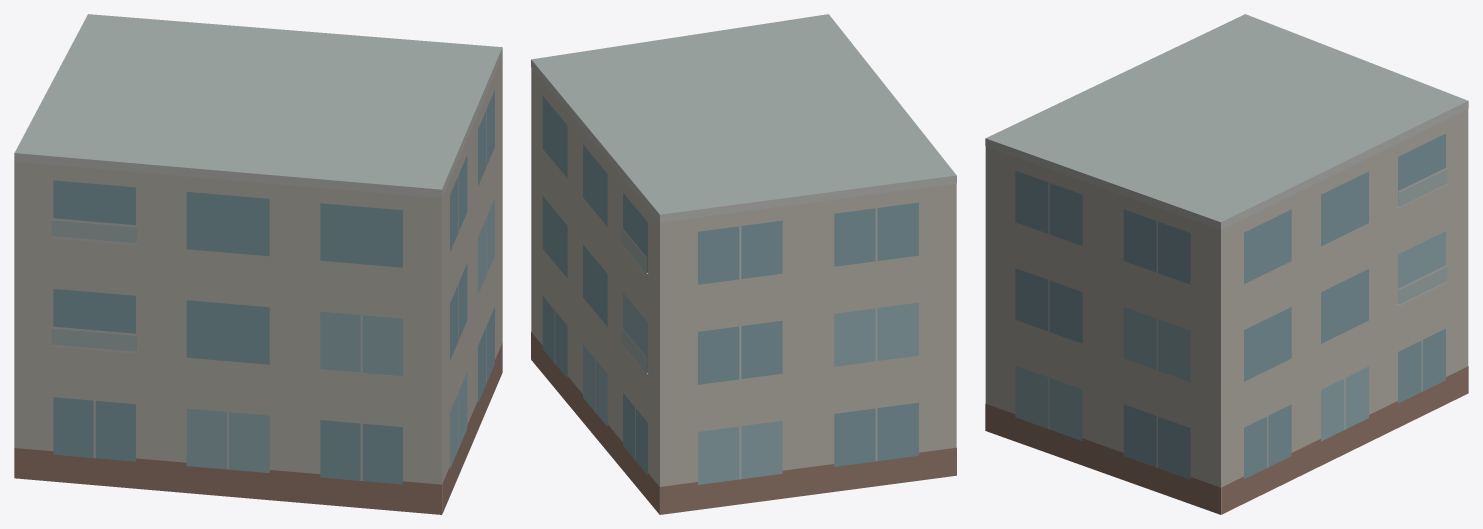
File: survey-upis-32656248.glb
3 views of the same model, side by side, from view 1: azimuth 30°, elevation 25°; view 2: azimuth 150°, elevation 25°; view 3: azimuth 270°, elevation 25° (orthographic). The views are drawn at different scales.
Parts seen in each view (by area): view 1: survey-upis-32656248.tmp; view 2: survey-upis-32656248.tmp; view 3: survey-upis-32656248.tmp.
Boxes of the visible parts, x1,y1,x2,y2 form: survey-upis-32656248.tmp: (14, 14, 502, 514); survey-upis-32656248.tmp: (531, 14, 956, 514); survey-upis-32656248.tmp: (985, 14, 1468, 514).
Bounding box in the file's own units: 13.98 × 9.15 × 13.7.
